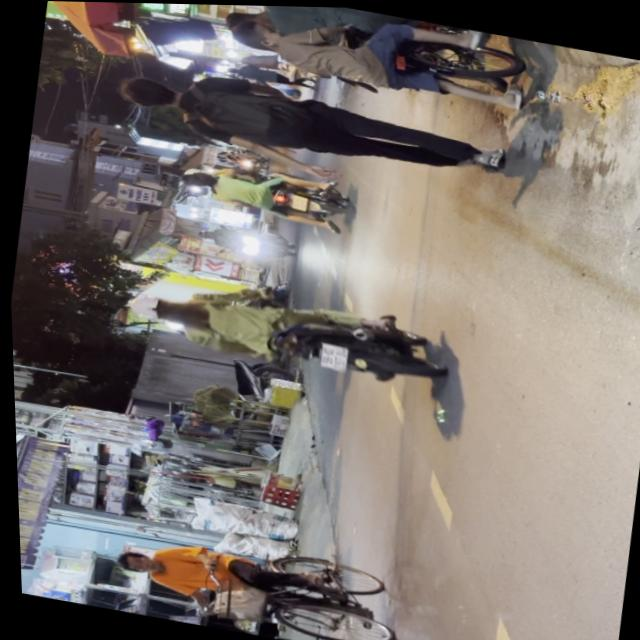helmet: (124, 292, 177, 326), (106, 548, 149, 576)
licenseplate: (117, 267, 447, 394)
nohelmet: (313, 342, 343, 370)
